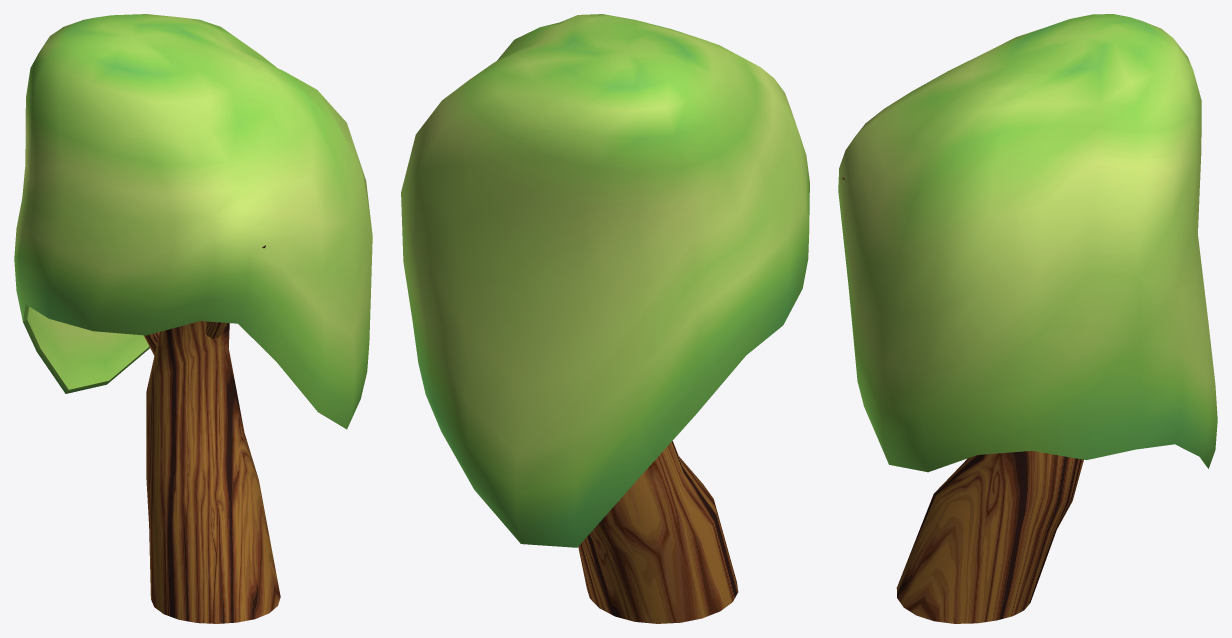
The model's file is tree1.fbx.
3 views of the same model, side by side, from view 1: azimuth 30°, elevation 25°; view 2: azimuth 150°, elevation 25°; view 3: azimuth 270°, elevation 25° (orthographic). The views are drawn at different scales.
Visible parts, largest first — view 1: polySurface5; view 2: polySurface5; view 3: polySurface5.
Boxes of the visible parts, x1,y1,x2,y2 form: polySurface5: (14, 14, 372, 623); polySurface5: (401, 14, 809, 623); polySurface5: (838, 14, 1217, 623).
Bounding box in the file's own units: 5.34 × 8.89 × 5.57.
